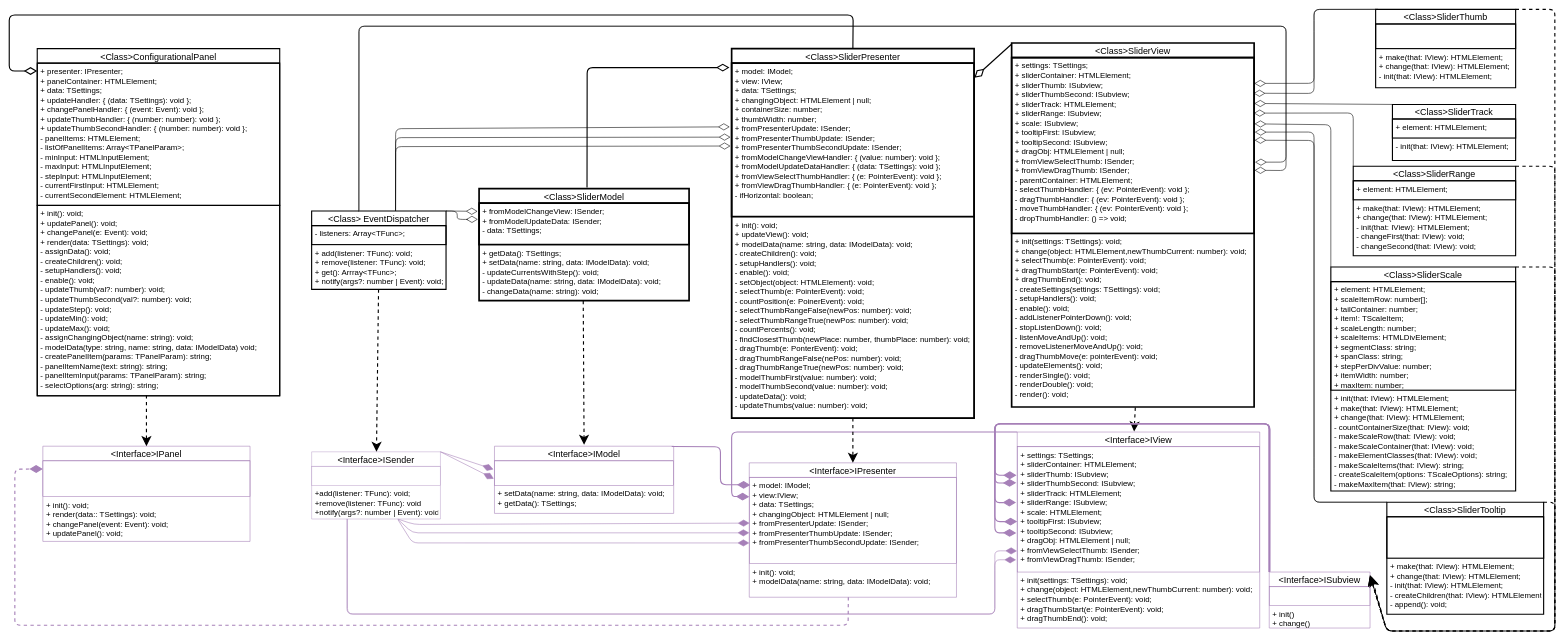
This 1564x640 diagram has some shape labels left out. The centre of each missing label's shape, as x and y in pixels:
"+ element: HTMLElement; - className: string;" goes at point 1445,36.
"+ element: HTMLElement; - className: string; - parentNode: HTMLElement;" goes at point 1465,537.
"+ element:HTMLElement" goes at point 1319,596.
"+ fromModelChangeView: ISender; + fromModelUpdateData: ISender;" goes at point 584,472.
"+ presenter: IPresenterl + panelContainer: HTMLElement; + data: TSettings;" goes at point 146,478.
